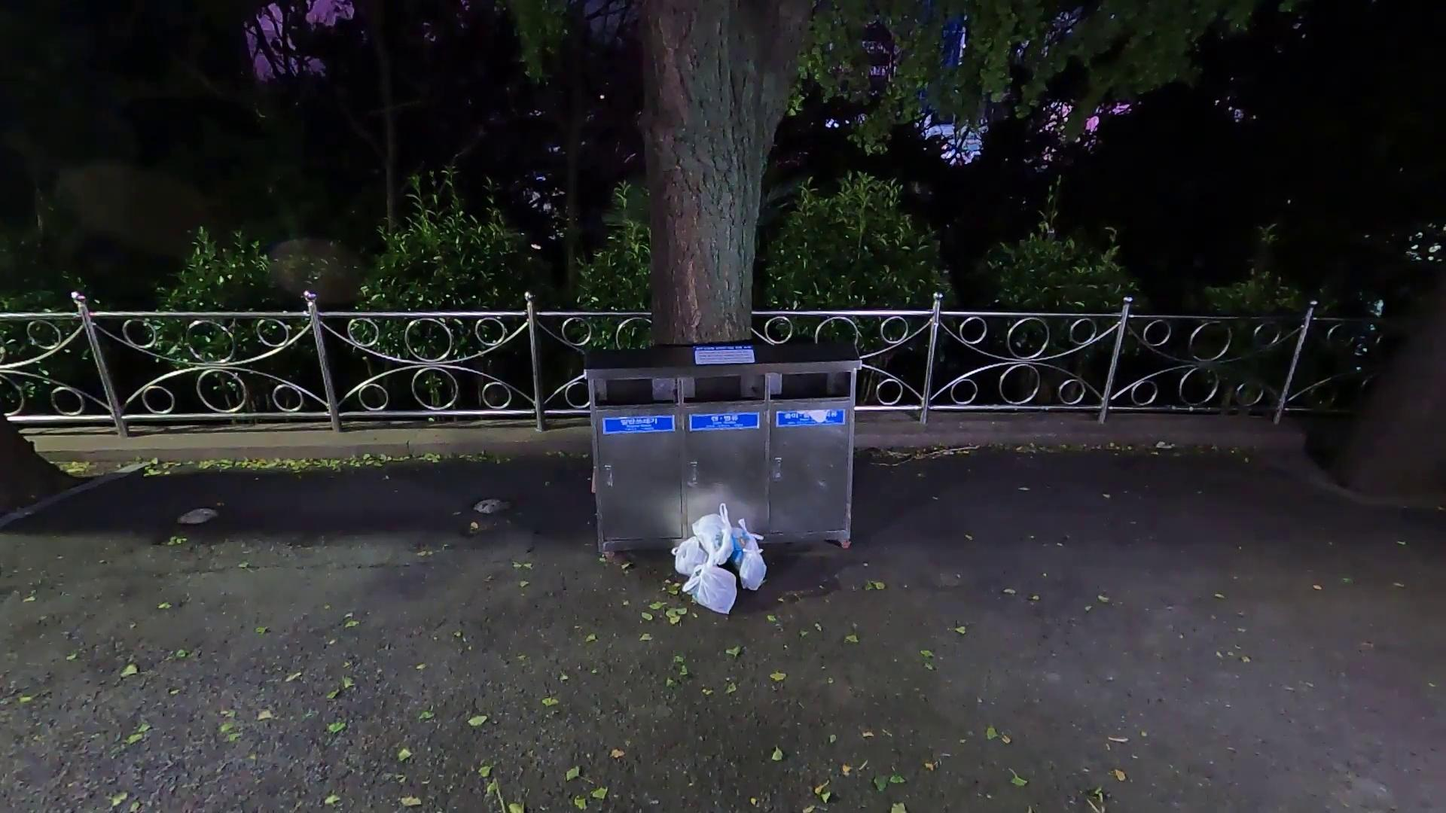trash: (684, 556, 736, 614), (691, 501, 734, 562), (717, 519, 763, 570), (669, 537, 712, 574), (734, 545, 767, 593)
